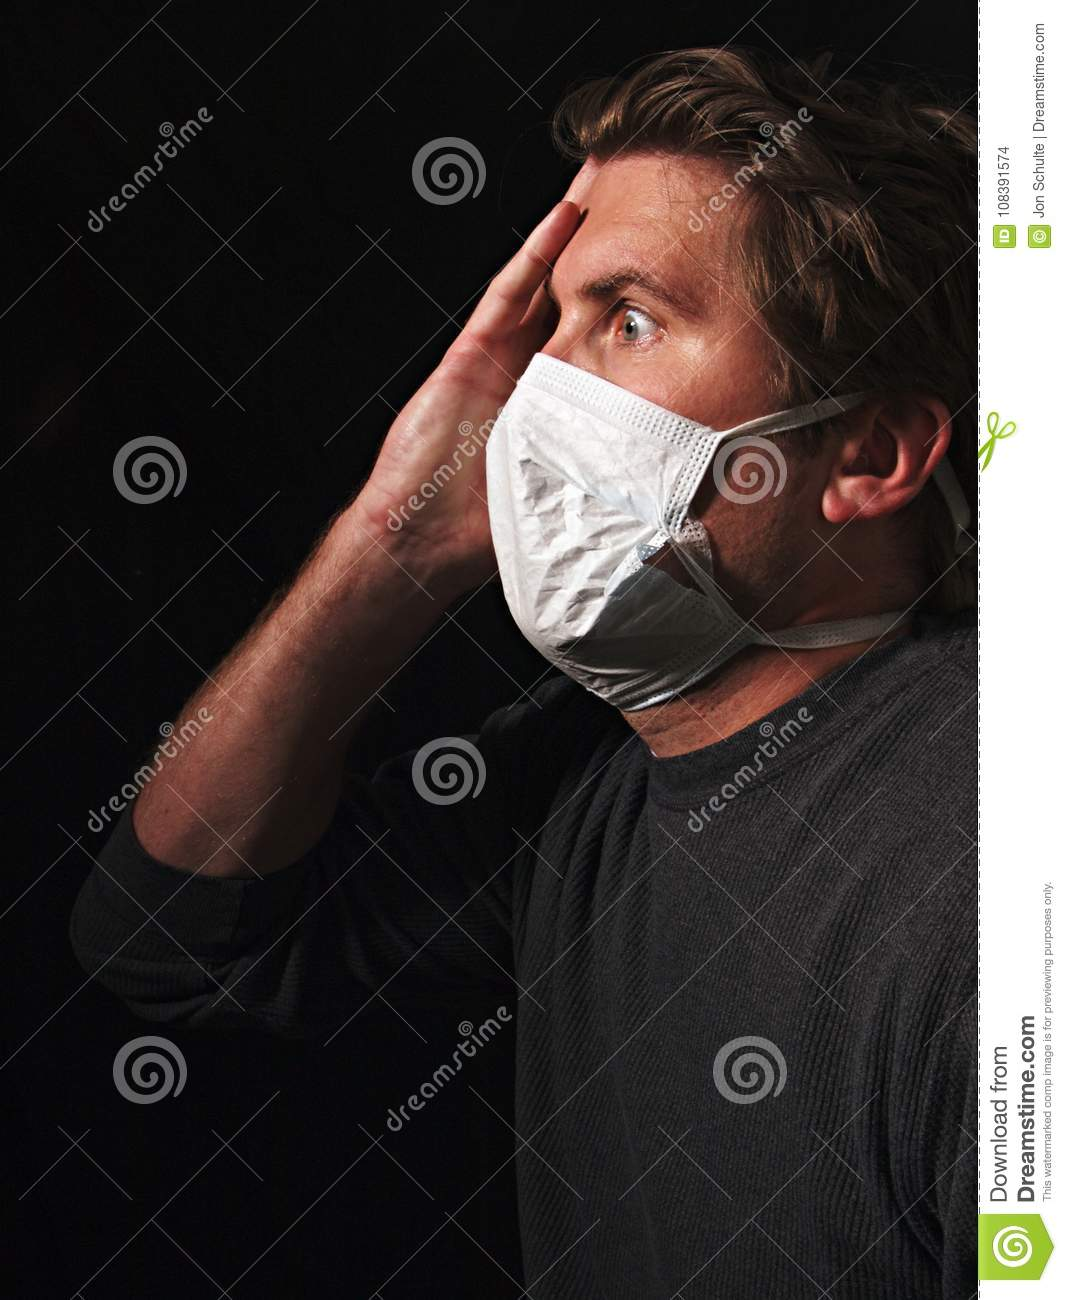mask: (485, 347, 764, 715)
